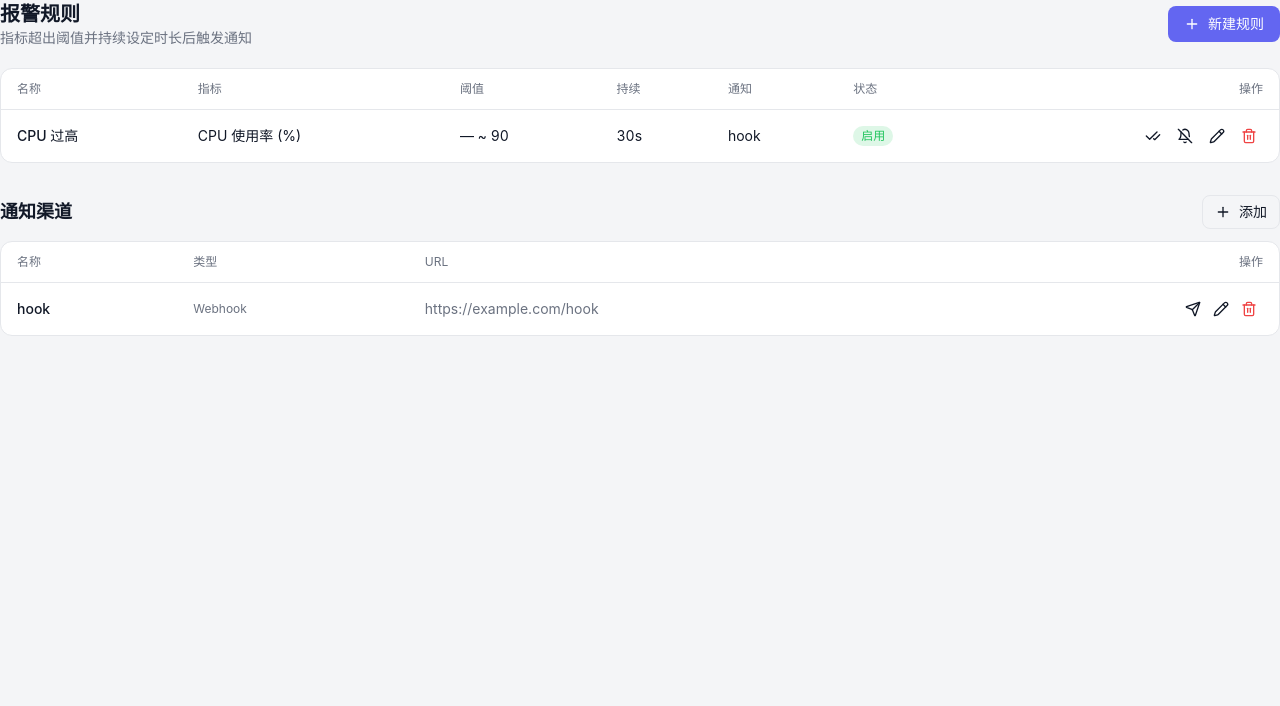
Alerts page — custom notification template › channel form default body uses unquoted placeholders
The image size is (1280, 706).
Expected: the text "CPU 过高" is shown, [1,110,182,162]
Click the button "添加" at (1241, 212), box [1202,195,1279,229]
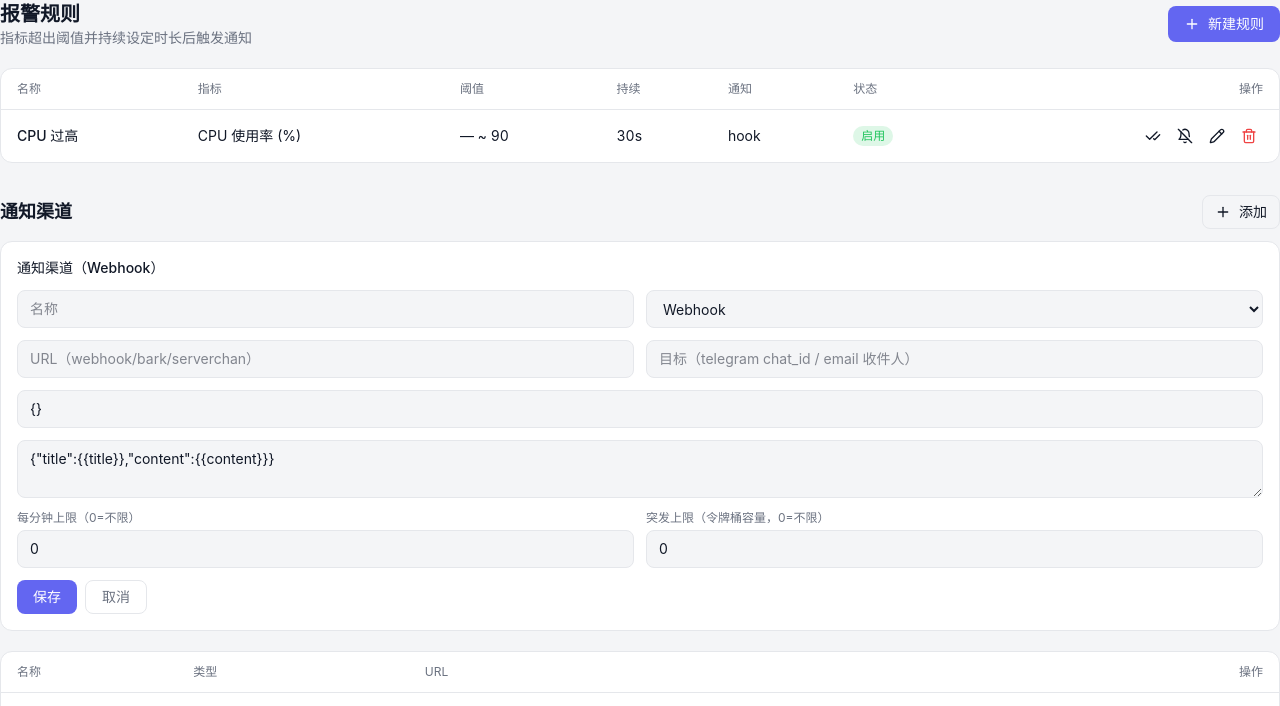
Expected: the text box with placeholder "Body 模板" holds "{\"title\":{{title}},\"content\":{{content}}}", [17,440,1263,498]
